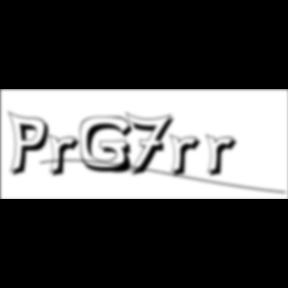7: (126, 111, 180, 179)
G: (80, 116, 140, 176)
P: (8, 110, 55, 180)
r: (48, 134, 86, 180), (169, 134, 207, 180), (206, 134, 244, 180)
